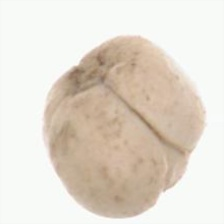L3: (155, 138, 197, 205)
L4: (42, 36, 207, 219)
